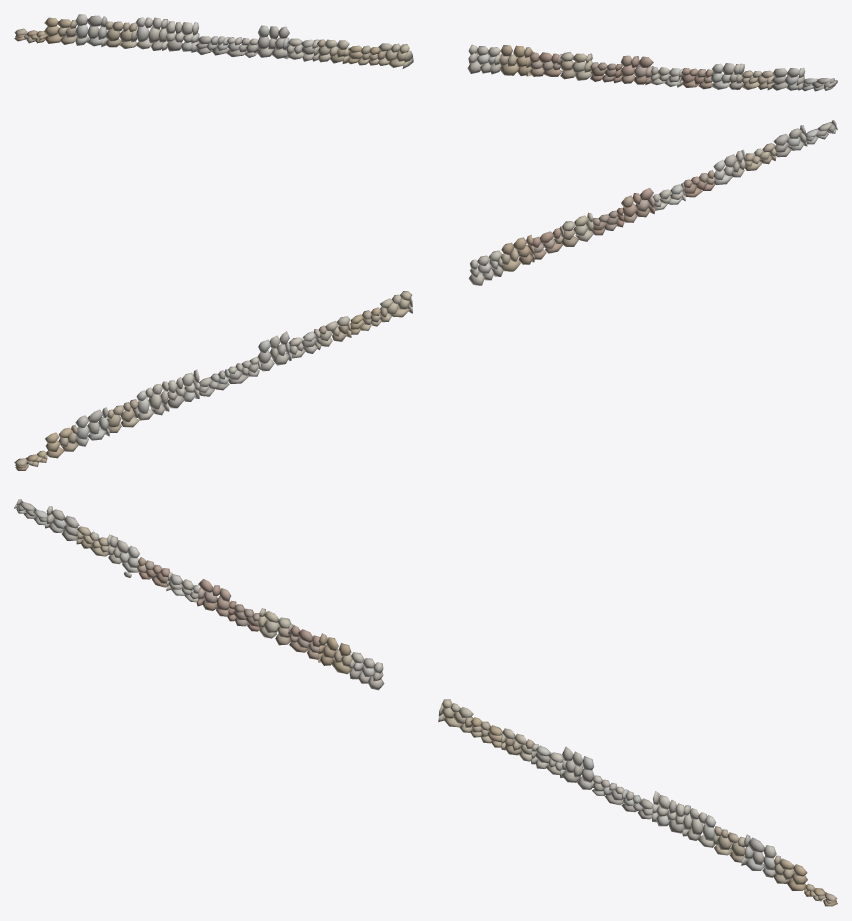
Rendered from farm_-6_5_near.glb.
3 renders of one model, top to bottom at view 1: azimuth 90°, elevation 25°; view 2: azimuth 150°, elevation 25°; view 3: azimuth 270°, elevation 25°, orthographic. The views are drawn at different scales.
Visible parts, largest first — view 1: geometry_0; view 2: geometry_0; view 3: geometry_0.
Part boxes in pixels (x1,y1,x2,y2): geometry_0: [14, 14, 837, 91]; geometry_0: [14, 120, 837, 470]; geometry_0: [14, 499, 837, 906].
Size of the model in its own units: 23.21 by 8.8 by 35.41.
